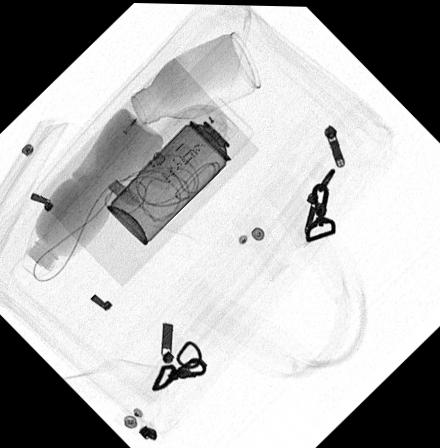Sprayer: (105, 94, 253, 245)
